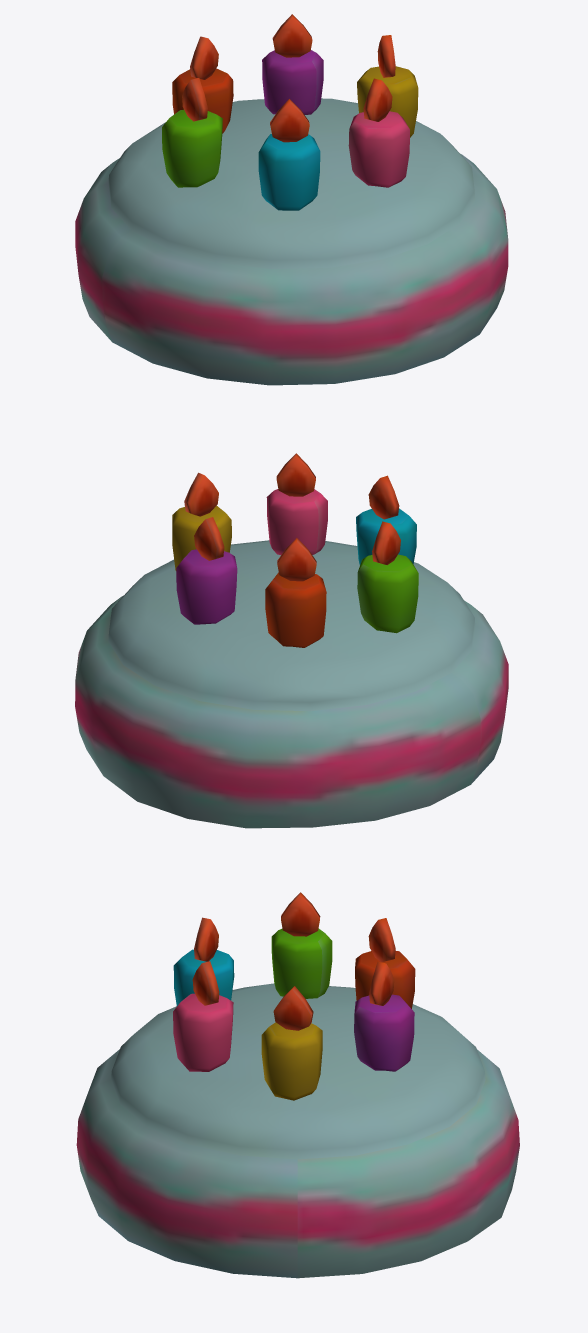
File: birthday-hat-pink.glb
3 views of the same model, one above another, from view 1: azimuth 30°, elevation 25°; view 2: azimuth 150°, elevation 25°; view 3: azimuth 270°, elevation 25° (orthographic).
Bounding box in the file's own units: 10.56 × 5.18 × 10.27.
1 material, 1 textured.
